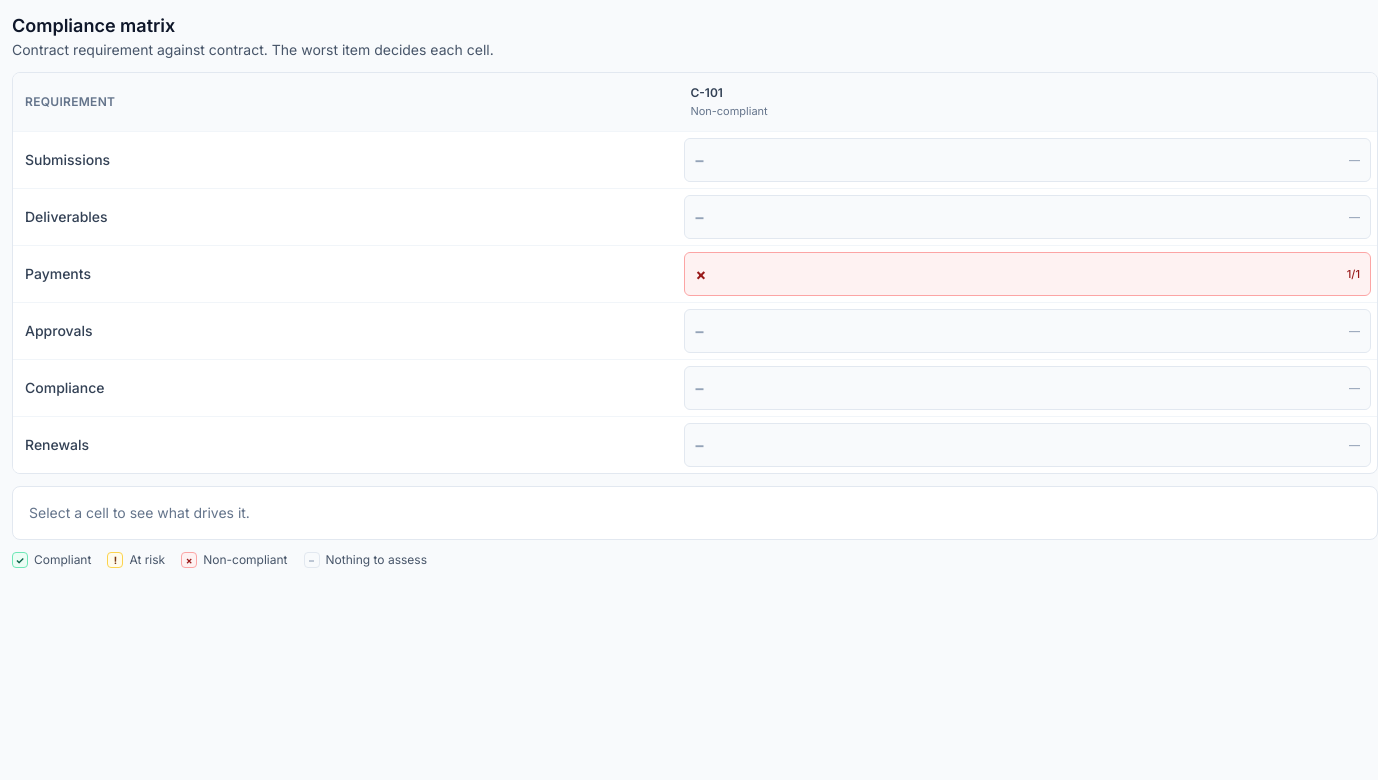
Test: ComplianceMatrix › shows what drives a verdict when a cell is selected
Expected: the text "Select a cell to see what drives it." is shown, [29,504,250,521]
What coordinates should you click on to do the following:
click the button named "Payments, C-101"
I would click on:
 (701, 274)
Its box is [684,252,1371,296].
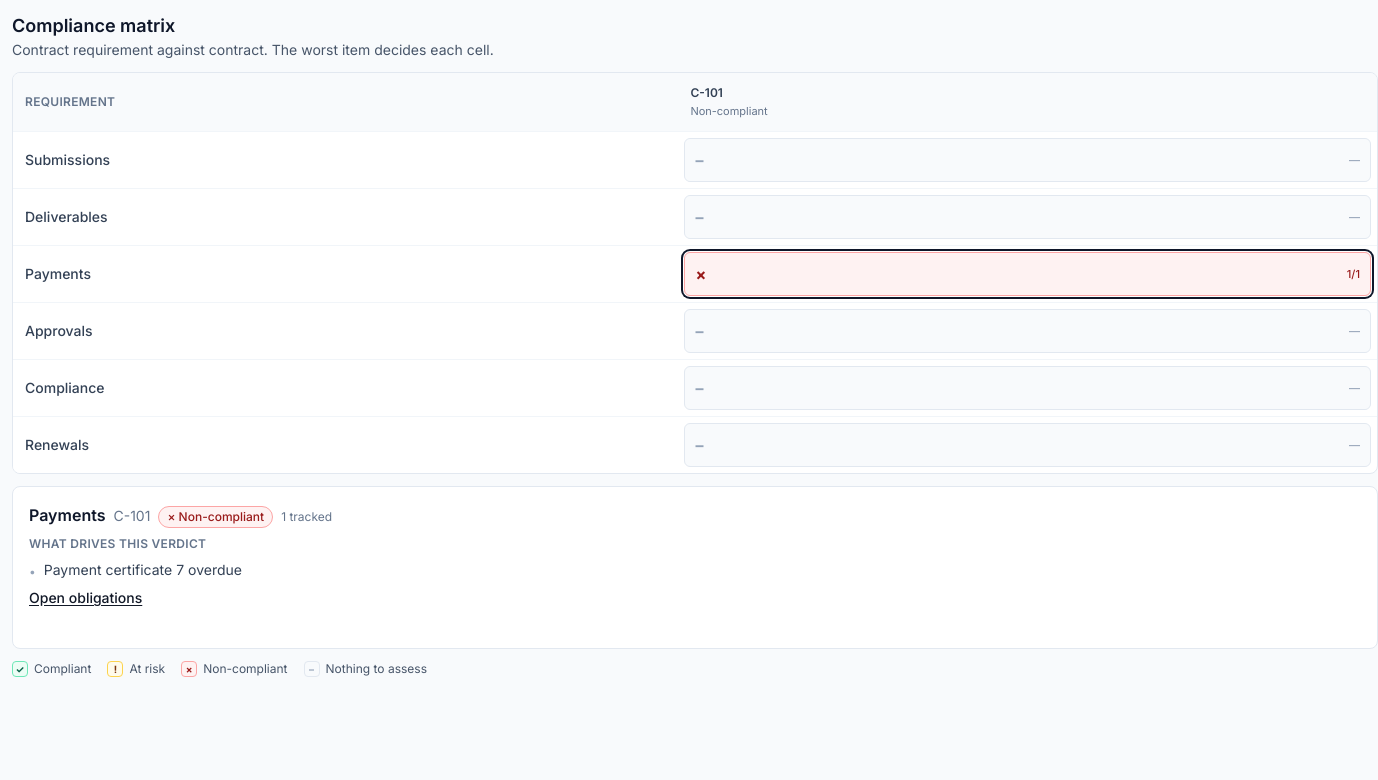
Expected: the text "Payment certificate 7 overdue" is shown, [44,560,242,580]
Expected: the link "Open obligations" is shown, [29,589,142,606]
